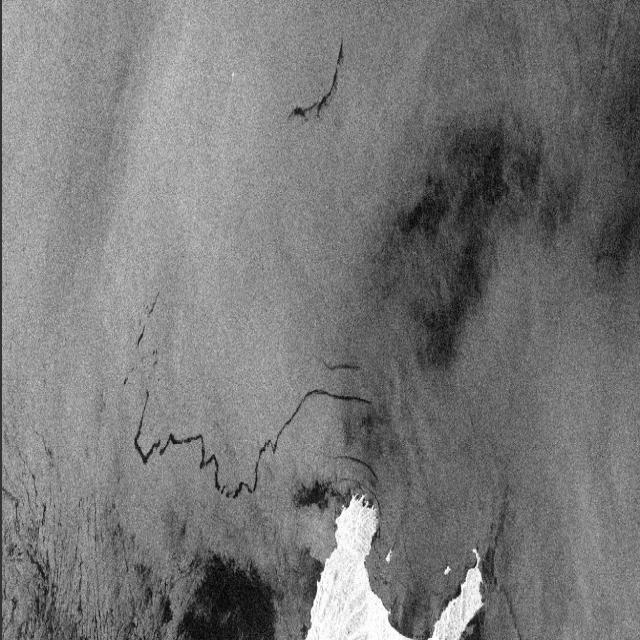look-alike: (402, 124, 539, 360), (15, 508, 133, 629), (177, 548, 278, 640), (601, 199, 637, 273), (483, 536, 505, 594), (470, 605, 490, 637)
oil-spill: (139, 396, 271, 521), (278, 355, 382, 486), (284, 39, 354, 142), (118, 288, 168, 389)
